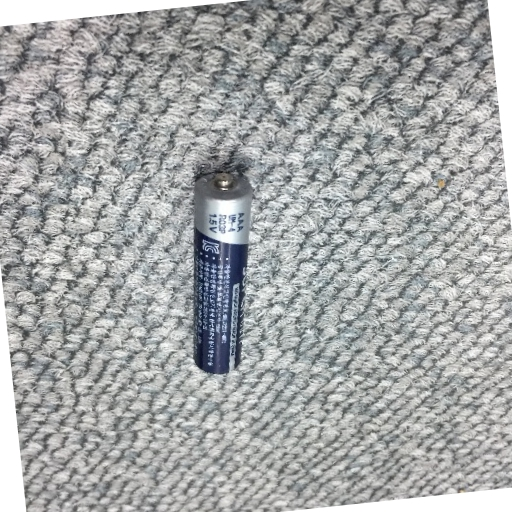Battery_0: (182, 161, 257, 383)
